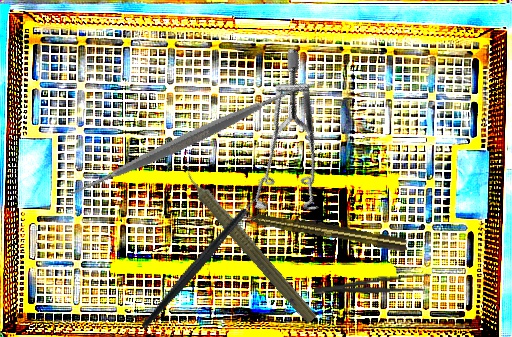Chopper: (107, 178, 297, 330)
Dressing Forceps: (313, 270, 433, 302)
Handpiece: (172, 157, 324, 327), (232, 207, 410, 254)
Spatula Surgical: (59, 12, 313, 268)
Speculum: (201, 46, 386, 238)
